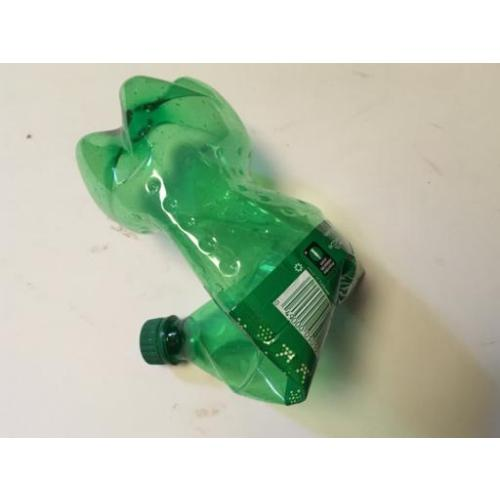plastic: (78, 74, 364, 407)
